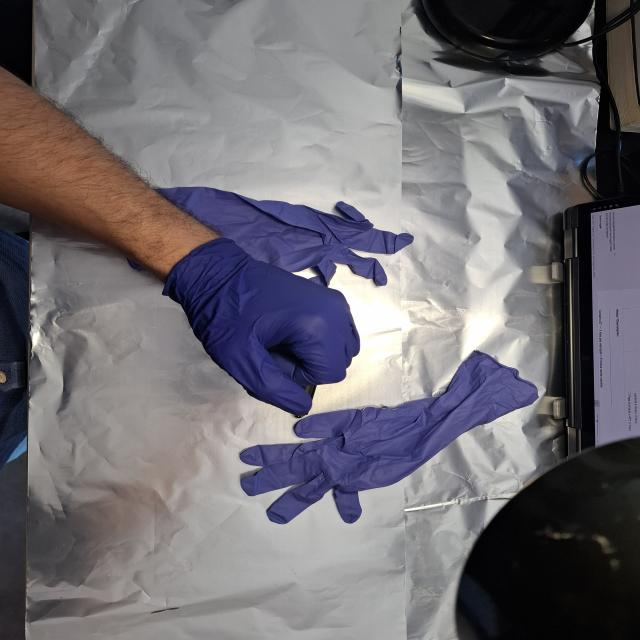glove_on: (159, 238, 363, 418)
